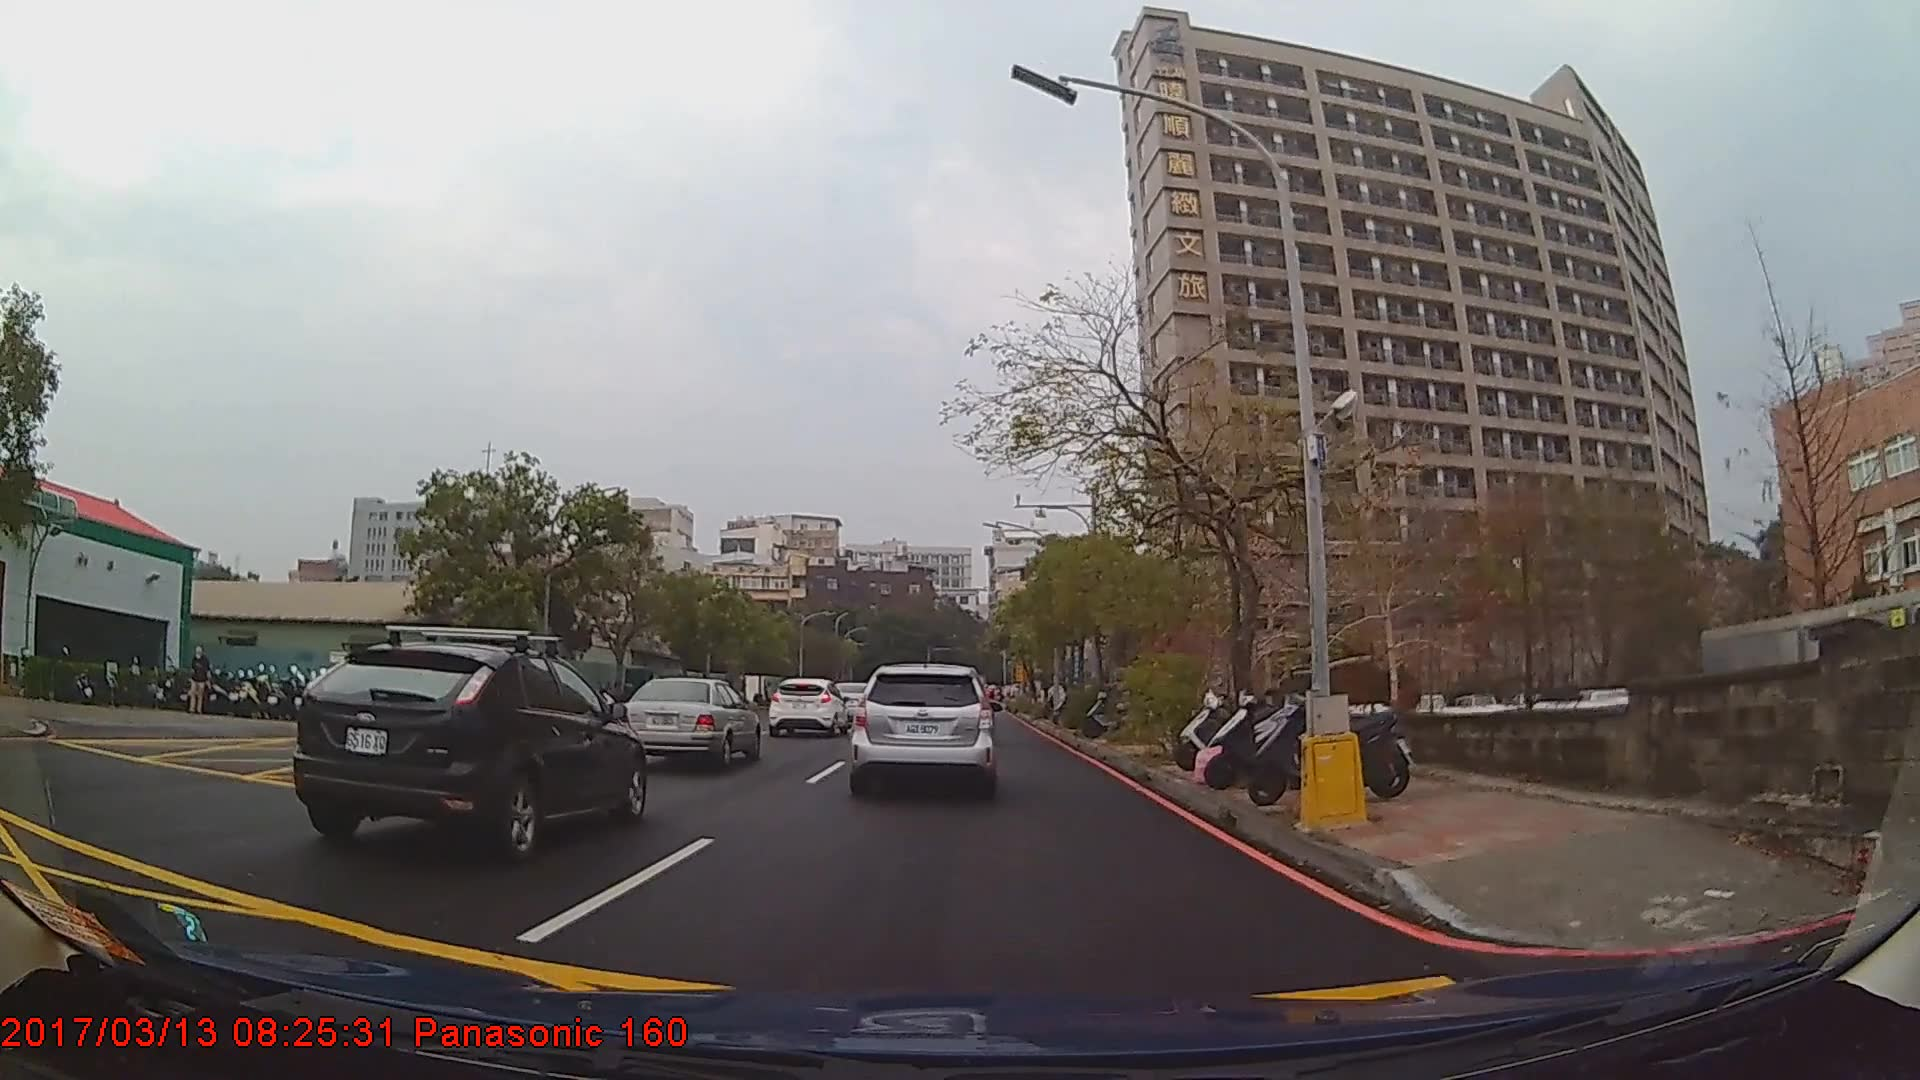pedestrian: (189, 646, 213, 716)
vehicle: (293, 638, 645, 854), (849, 662, 992, 796), (617, 675, 761, 772), (767, 676, 848, 737)
